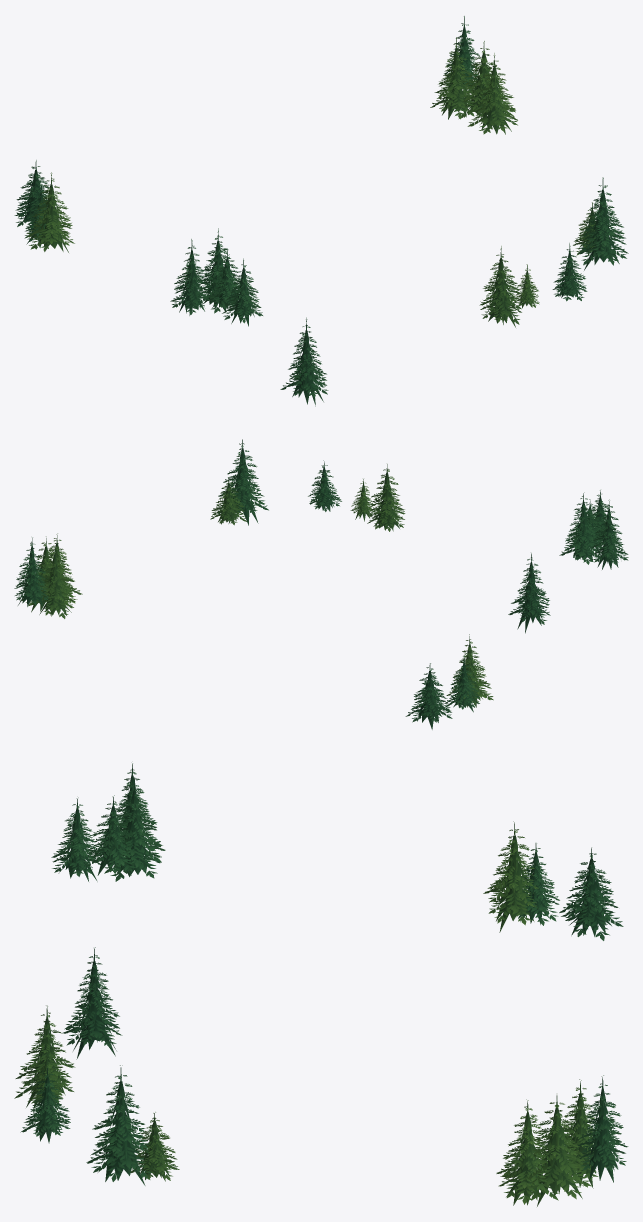
3 views of the same model, one above another, from view 1: azimuth 30°, elevation 25°; view 2: azimuth 150°, elevation 25°; view 3: azimuth 270°, elevation 25° (orthographic). The views are drawn at different scales.
Parts seen in each view (by area): view 1: pn_25; view 2: pn_25; view 3: pn_25.
Boxes of the visible parts, x1,y1,x2,y2 form: pn_25: (14,16,628,406); pn_25: (14,439,628,729); pn_25: (14,763,628,1206).
Size of the model in its own units: 97.02 by 33.55 by 79.49.
Materials: 1 (1 with a texture image).
